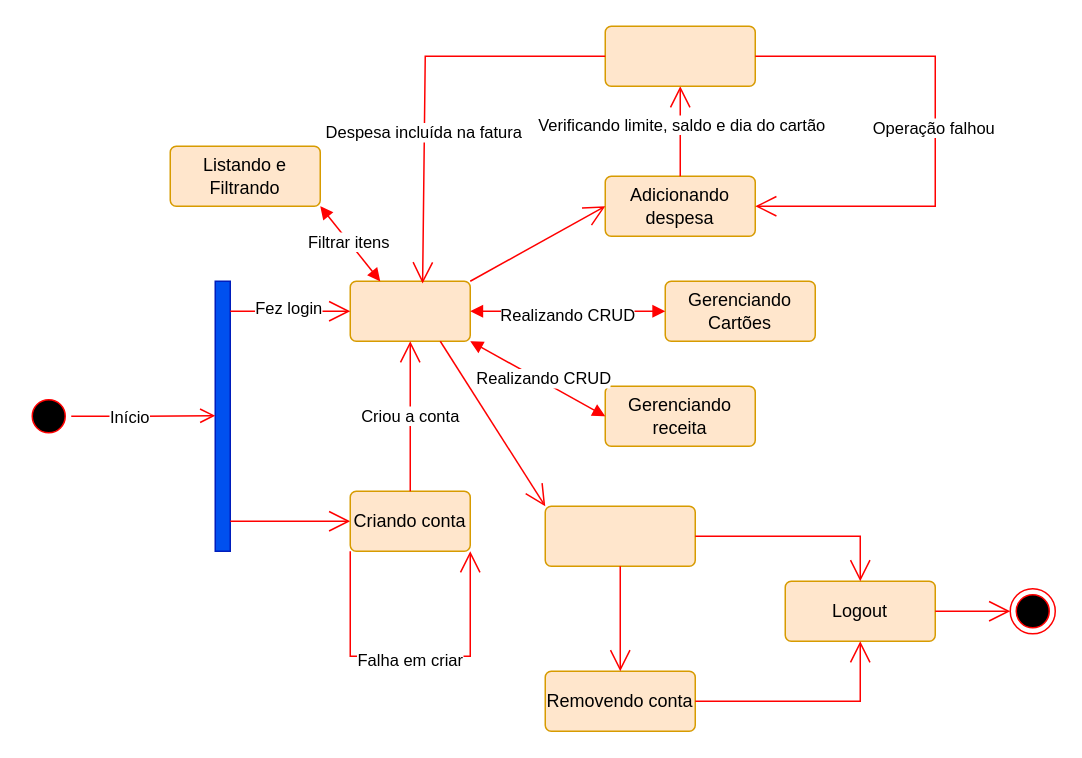
The diagram is 1082 pixels wide and 758 high, and some of its shapes have lost their labels. The centre of each missing label's shape, as x and y in pixels:
Editando conta: the point at 619,535
Logado: the point at 409,310
Verificando despesa: the point at 679,55
